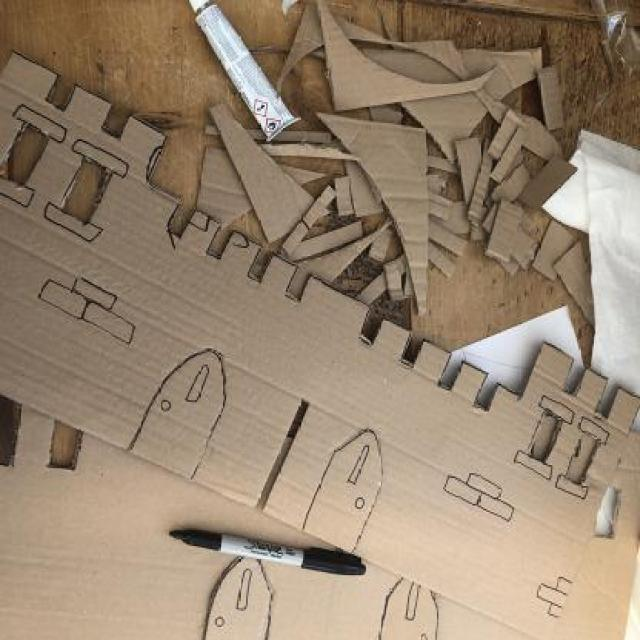box: (3, 40, 640, 640)
